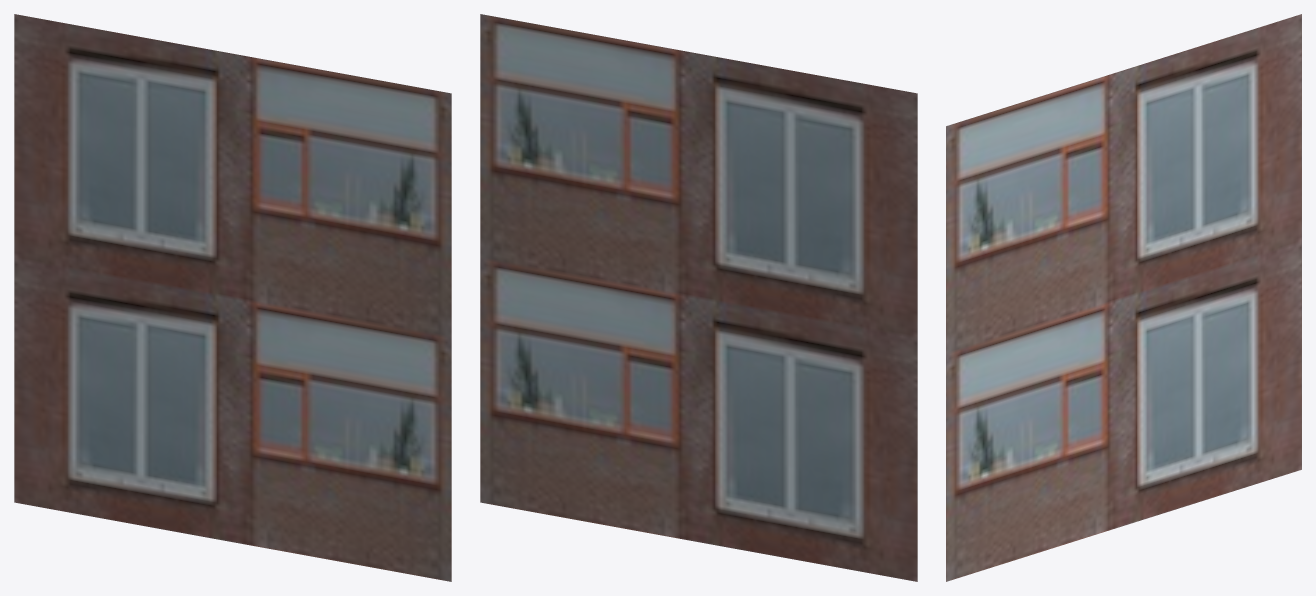
Rendered from ResTex__4163.fbx.
3 views of the same model, side by side, from view 1: azimuth 30°, elevation 25°; view 2: azimuth 210°, elevation 25°; view 3: azimuth 270°, elevation 25° (orthographic). The views are drawn at different scales.
Parts seen in each view (by area): view 1: CityEngineMaterial_19_m; view 2: CityEngineMaterial_19_m; view 3: CityEngineMaterial_19_m.
Part boxes in pixels (bbox=[...]): CityEngineMaterial_19_m: bbox=[14, 14, 451, 581]; CityEngineMaterial_19_m: bbox=[480, 14, 917, 581]; CityEngineMaterial_19_m: bbox=[946, 14, 1301, 581].
Bounding box in the file's own units: 3.17 × 6 × 4.25.
Materials: 1 (1 with a texture image).
